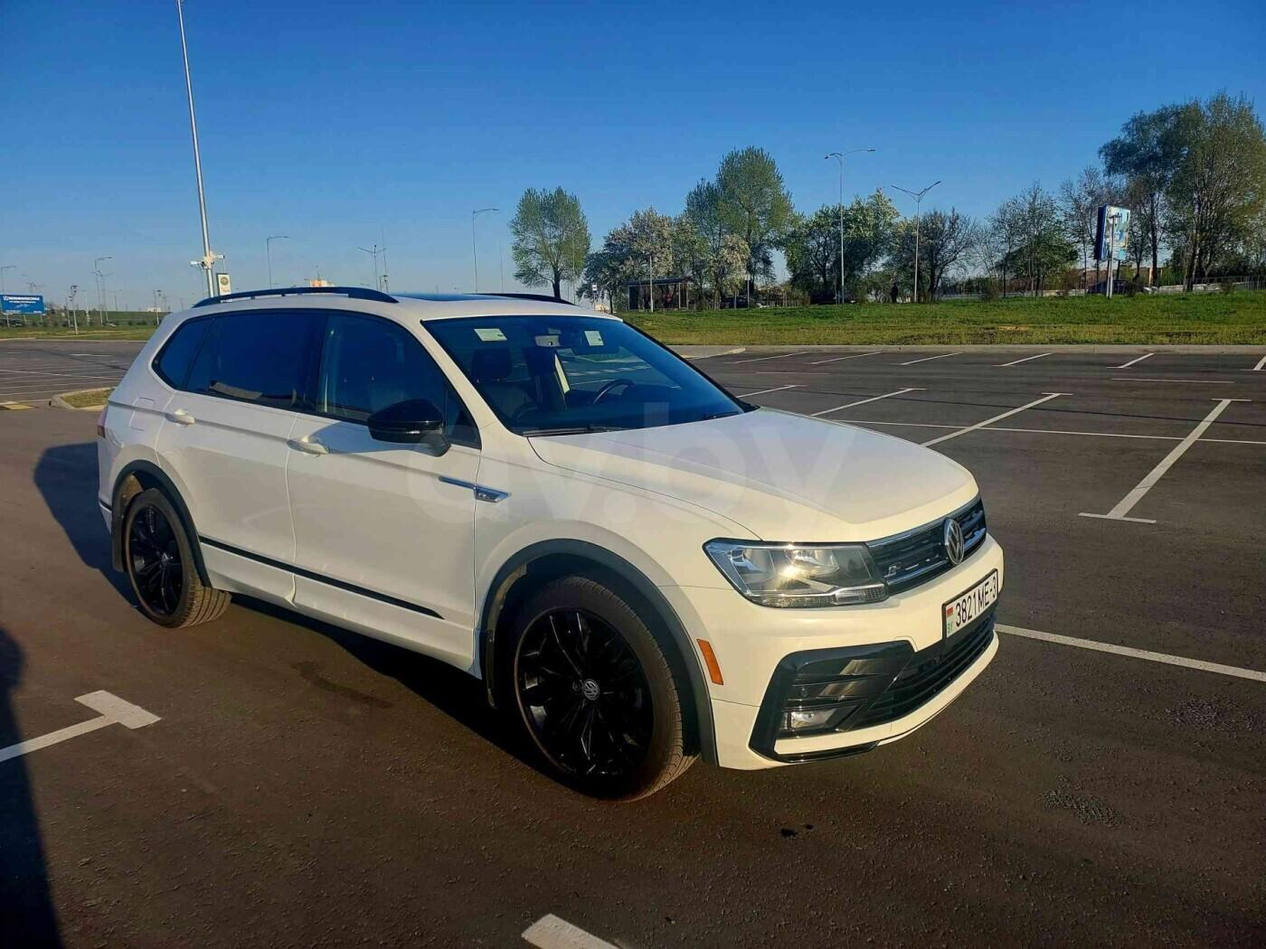Tiguan_2016-2021: (94, 288, 1005, 802)
